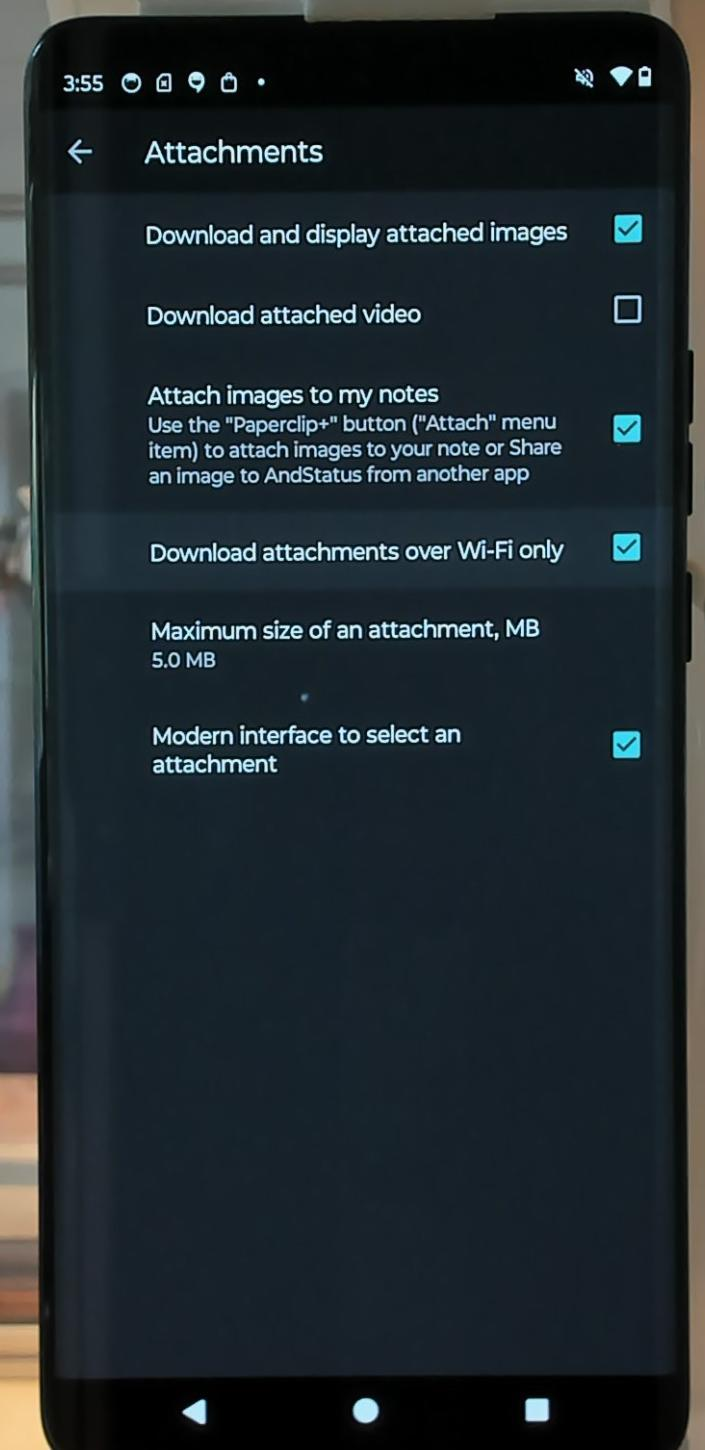Checkbox: (143, 384, 644, 490), (149, 721, 642, 781), (139, 286, 645, 335), (142, 209, 644, 256), (144, 529, 644, 572)
CommunBotton: (174, 1388, 215, 1430), (348, 1391, 383, 1429), (63, 130, 95, 171), (520, 1392, 554, 1428)
